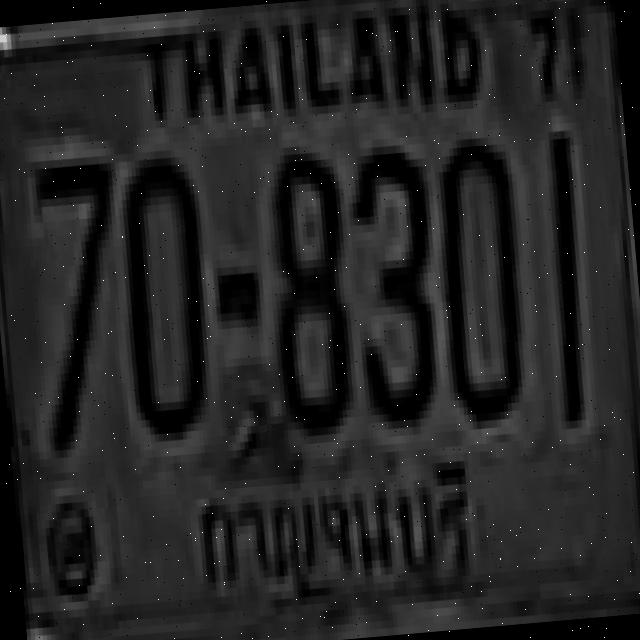0: (111, 147, 216, 436), (427, 127, 528, 416)
1: (536, 126, 589, 418), (540, 127, 588, 417)
3: (342, 135, 443, 423)
7: (26, 152, 130, 446)
8: (258, 143, 356, 430)
Kanchanaburi: (174, 439, 482, 622)
